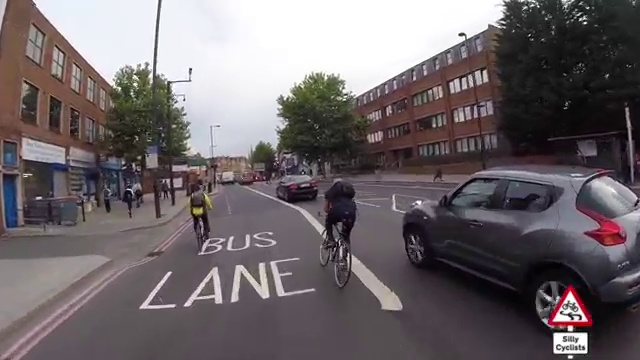cyclist_back: (316, 171, 359, 289), (187, 183, 212, 253)
